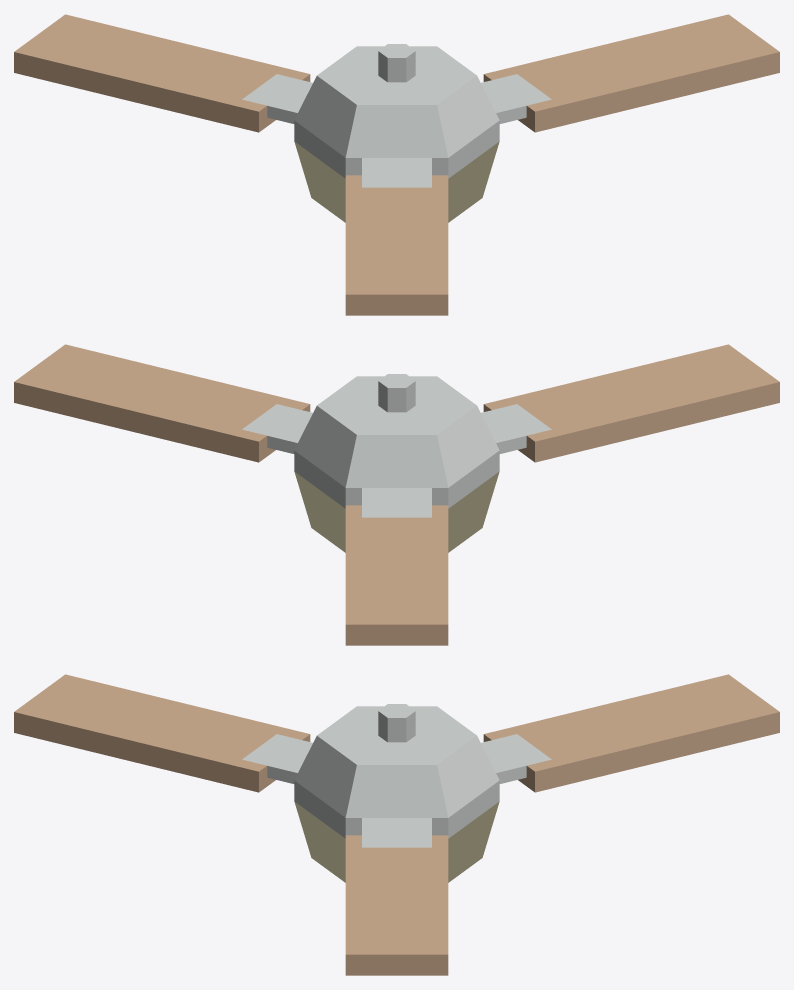
The model's file is ceilingFan.glb.
3 renders of one model, top to bottom at view 1: azimuth 30°, elevation 25°; view 2: azimuth 150°, elevation 25°; view 3: azimuth 270°, elevation 25°, orthographic.
Visible parts, largest first — view 1: ceilingFan; view 2: ceilingFan; view 3: ceilingFan.
Part boxes in pixels (x1,y1,x2,y2): ceilingFan: [14, 14, 779, 315]; ceilingFan: [14, 344, 779, 645]; ceilingFan: [14, 674, 779, 975].
Size of the model in its own units: 0.4547 by 0.1337 by 0.5251.
